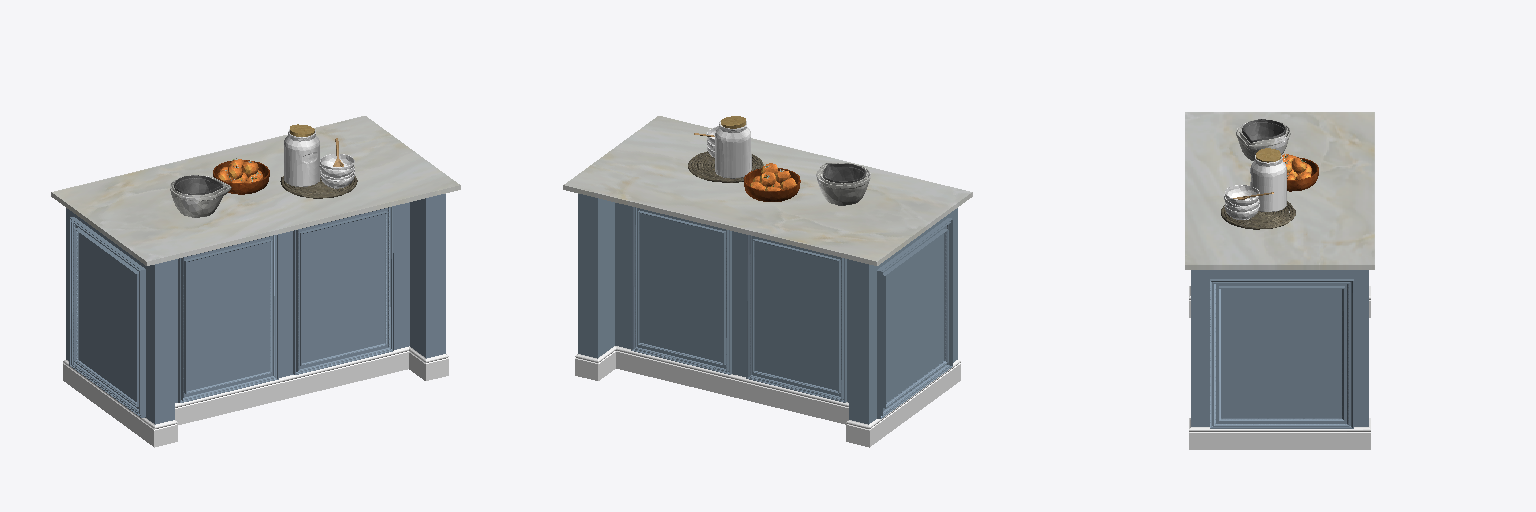
3 views of the same model, side by side, from view 1: azimuth 30°, elevation 25°; view 2: azimuth 150°, elevation 25°; view 3: azimuth 270°, elevation 25° (orthographic).
Parts seen in each view (by area): view 1: solid_005, solid_006, solid_001, solid_009, solid_002, solid_008, solid_004, solid_012, solid_003, solid_014; view 2: solid_005, solid_006, solid_001, solid_009, solid_002, solid_004, solid_014, solid_012, solid_003; view 3: solid_005, solid_006, solid_001, solid_009, solid_008, solid_004, solid_002, solid_003.
Part boxes in pixels (bbox=[...]): solid_005: bbox=[66, 194, 445, 424]; solid_006: bbox=[51, 116, 460, 265]; solid_001: bbox=[63, 346, 448, 447]; solid_009: bbox=[284, 129, 319, 186]; solid_002: bbox=[170, 175, 231, 217]; solid_008: bbox=[319, 154, 354, 188]; solid_004: bbox=[280, 176, 357, 198]; solid_012: bbox=[217, 159, 262, 182]; solid_003: bbox=[174, 175, 222, 194]; solid_014: bbox=[213, 160, 269, 194]; solid_005: bbox=[578, 194, 957, 424]; solid_006: bbox=[563, 116, 972, 265]; solid_001: bbox=[575, 346, 960, 447]; solid_009: bbox=[715, 121, 751, 178]; solid_002: bbox=[816, 163, 870, 205]; solid_004: bbox=[688, 151, 763, 182]; solid_014: bbox=[744, 168, 800, 201]; solid_012: bbox=[750, 163, 796, 190]; solid_003: bbox=[823, 164, 865, 182]; solid_005: bbox=[1191, 270, 1368, 428]; solid_006: bbox=[1185, 112, 1374, 269]; solid_001: bbox=[1189, 286, 1370, 449]; solid_009: bbox=[1250, 155, 1286, 211]; solid_008: bbox=[1224, 185, 1259, 219]; solid_004: bbox=[1221, 201, 1295, 229]; solid_002: bbox=[1236, 120, 1290, 160]; solid_003: bbox=[1242, 119, 1285, 142].
Size of the model in its own units: 1.52 by 1.13 by 0.8.
1 materials, 1 textured.